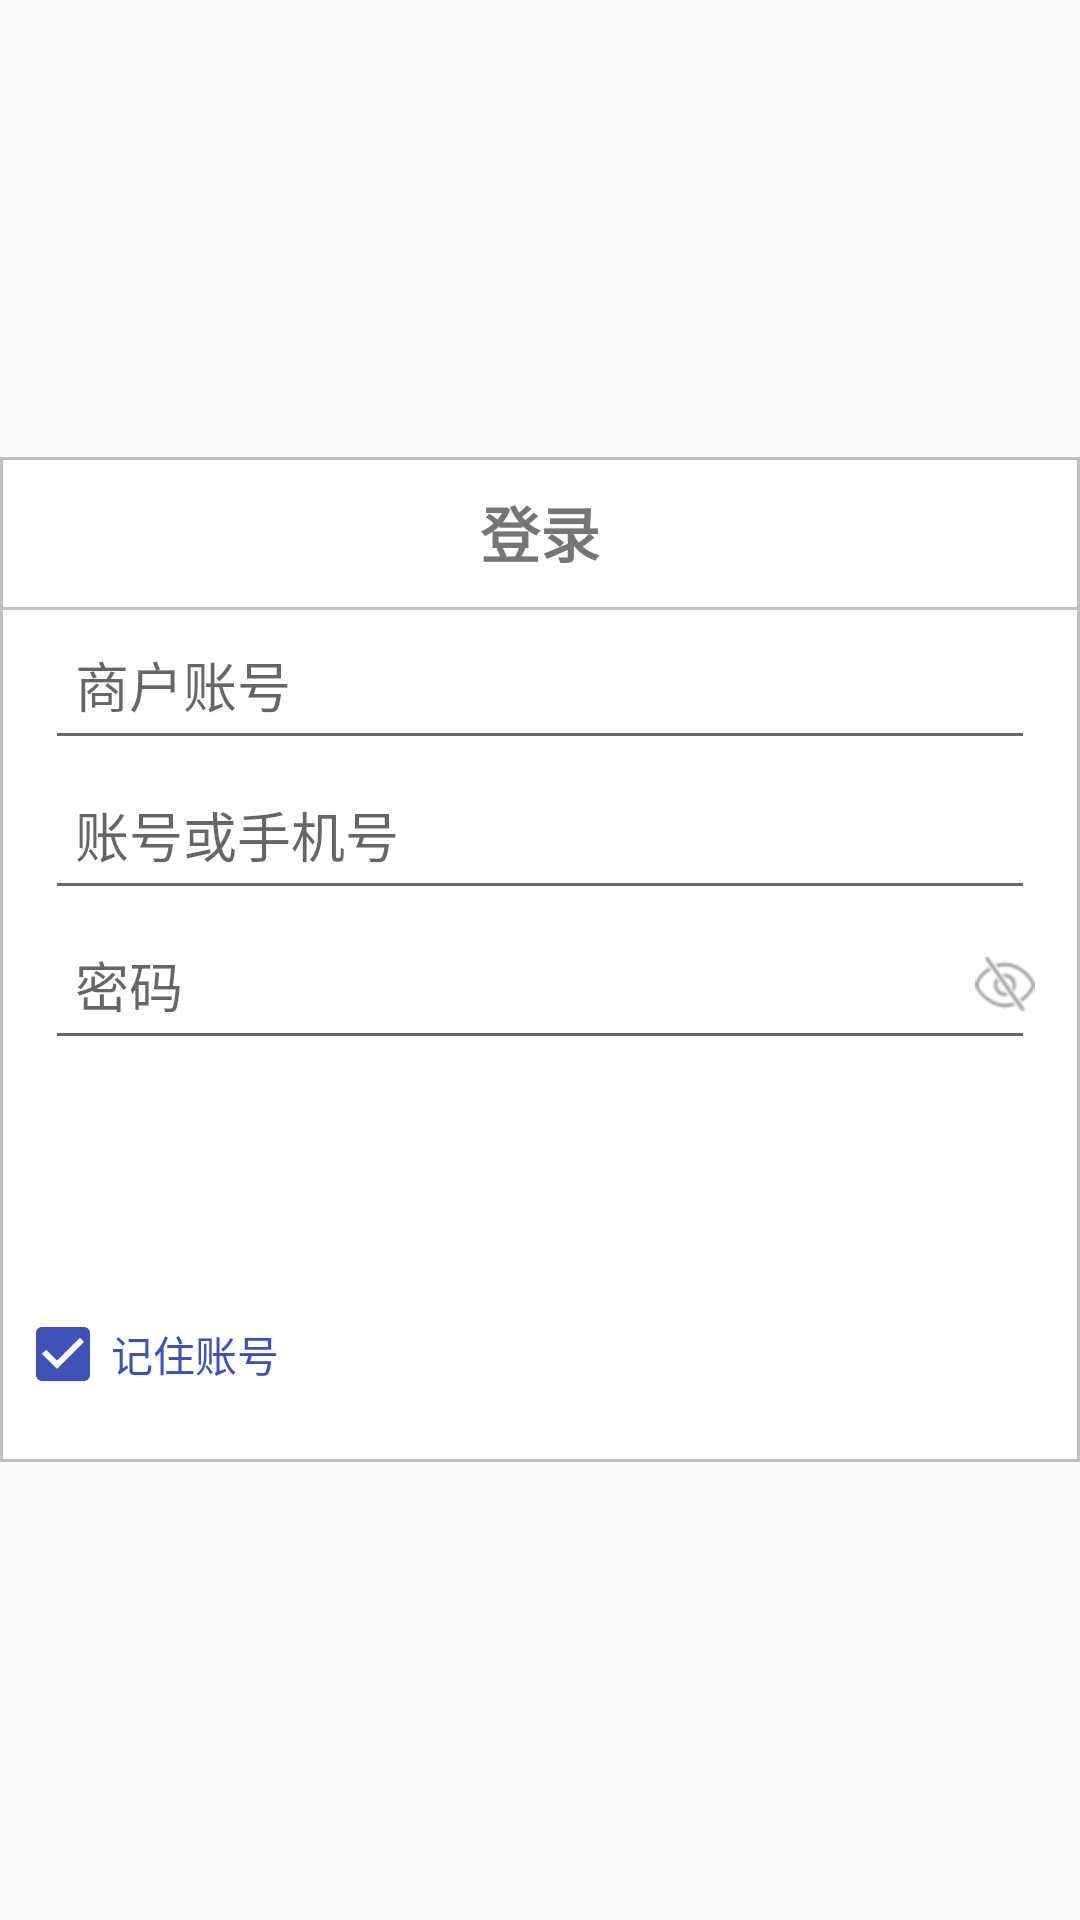

Point at icon controls on the screen. Image size 1080x1920, points as (x,y).
no visible: (1005,984)
